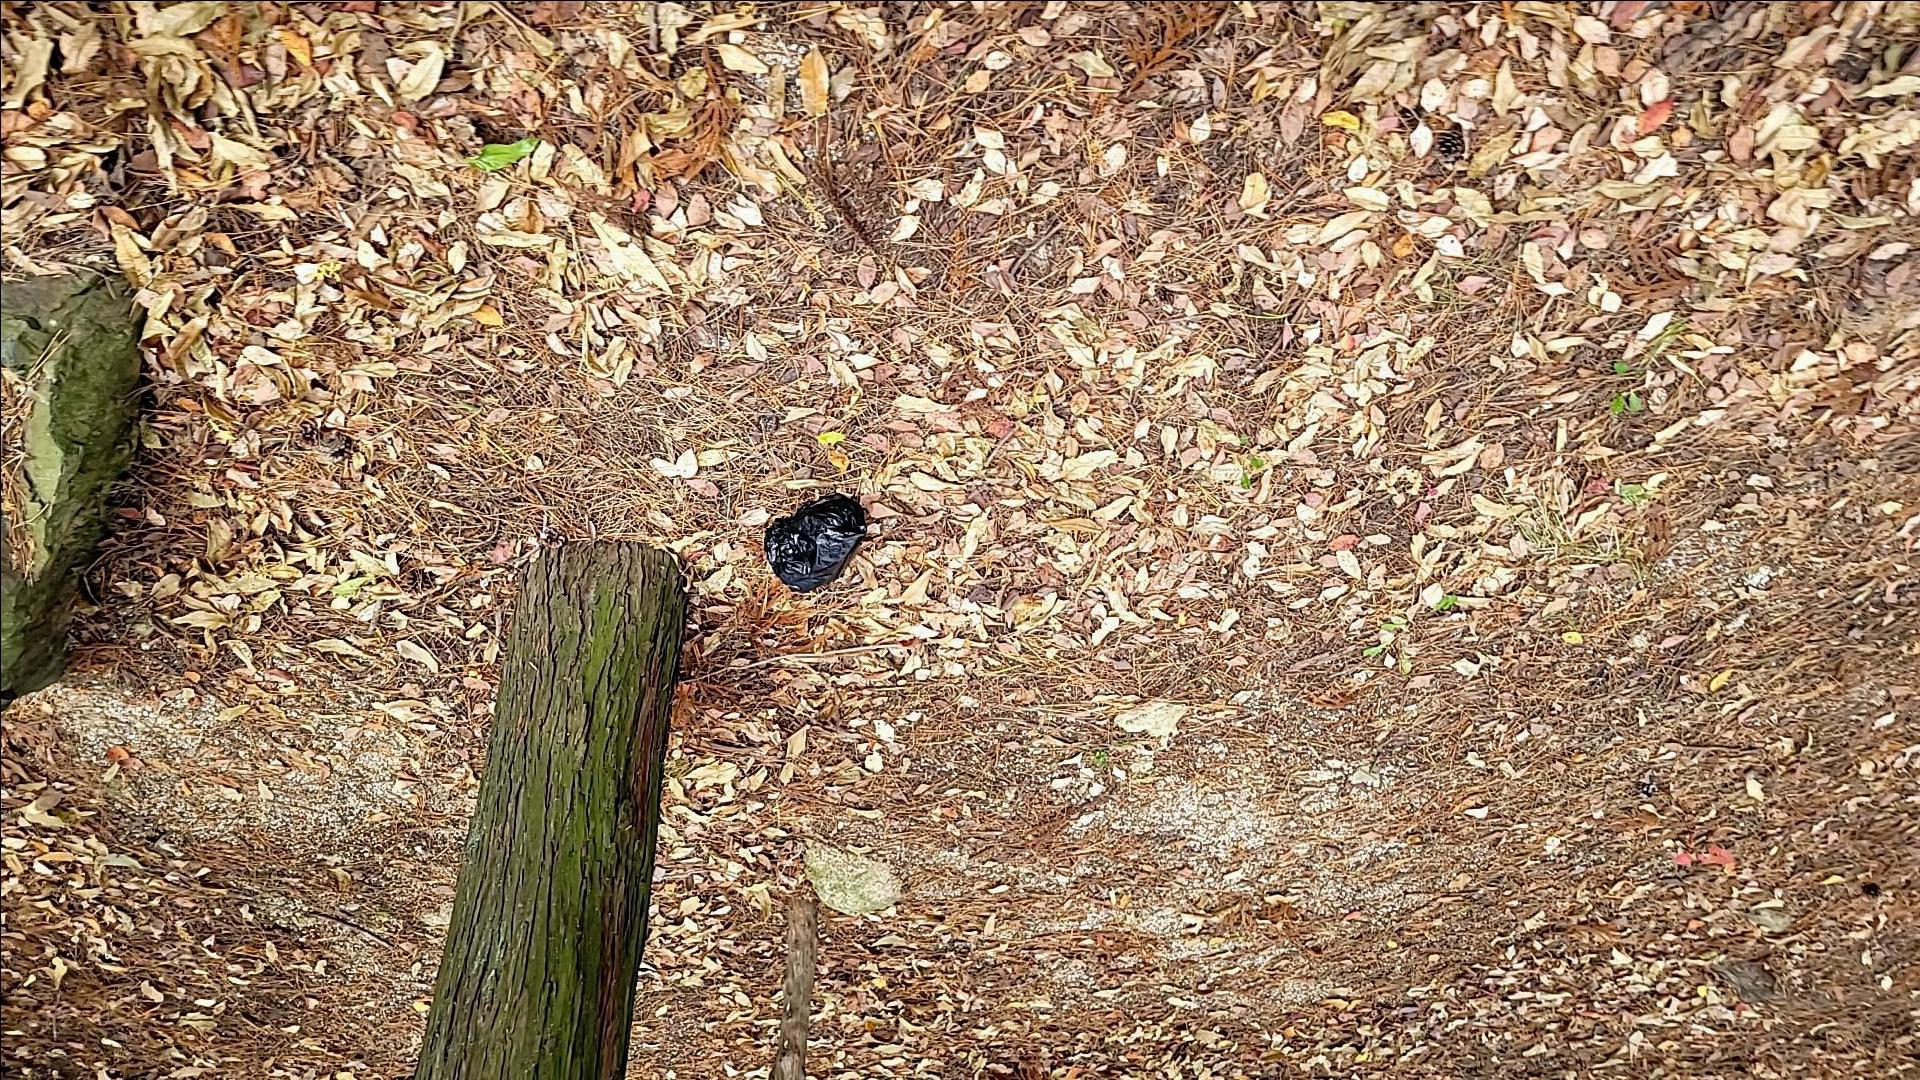black_bag: (762, 492, 870, 593)
